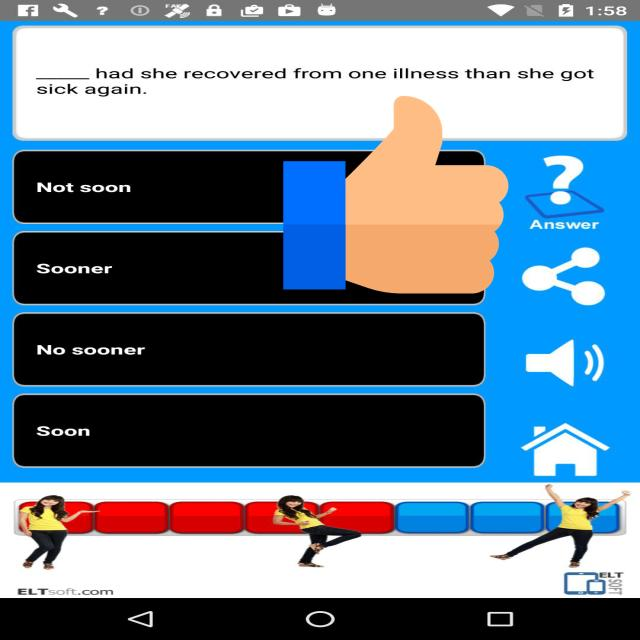privacy zuckering: (284, 91, 508, 298)
